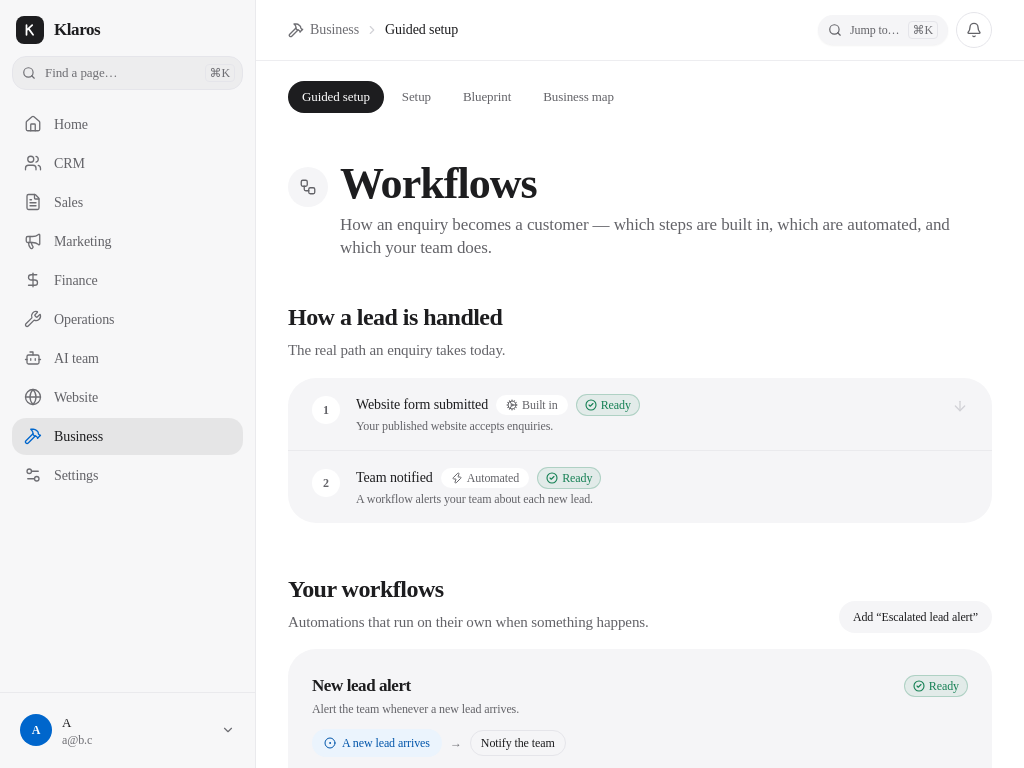
Test case: Workflows — escalation starter › offers the escalation workflow only when it does not exist, and creates it through the real endpoint
Click the button "Add “Escalated lead alert”".
click(915, 617)  # box [839, 601, 992, 633]
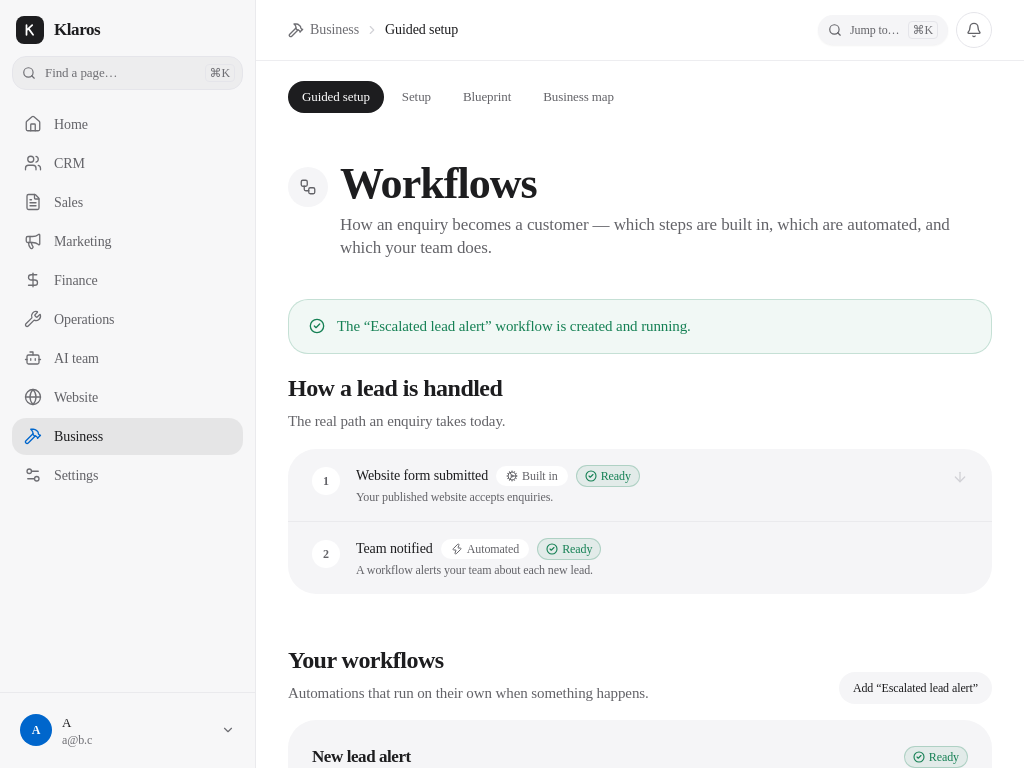
expect the text "The “Escalated lead alert” workflow is created and running." is shown: met, box [337, 318, 691, 334]
